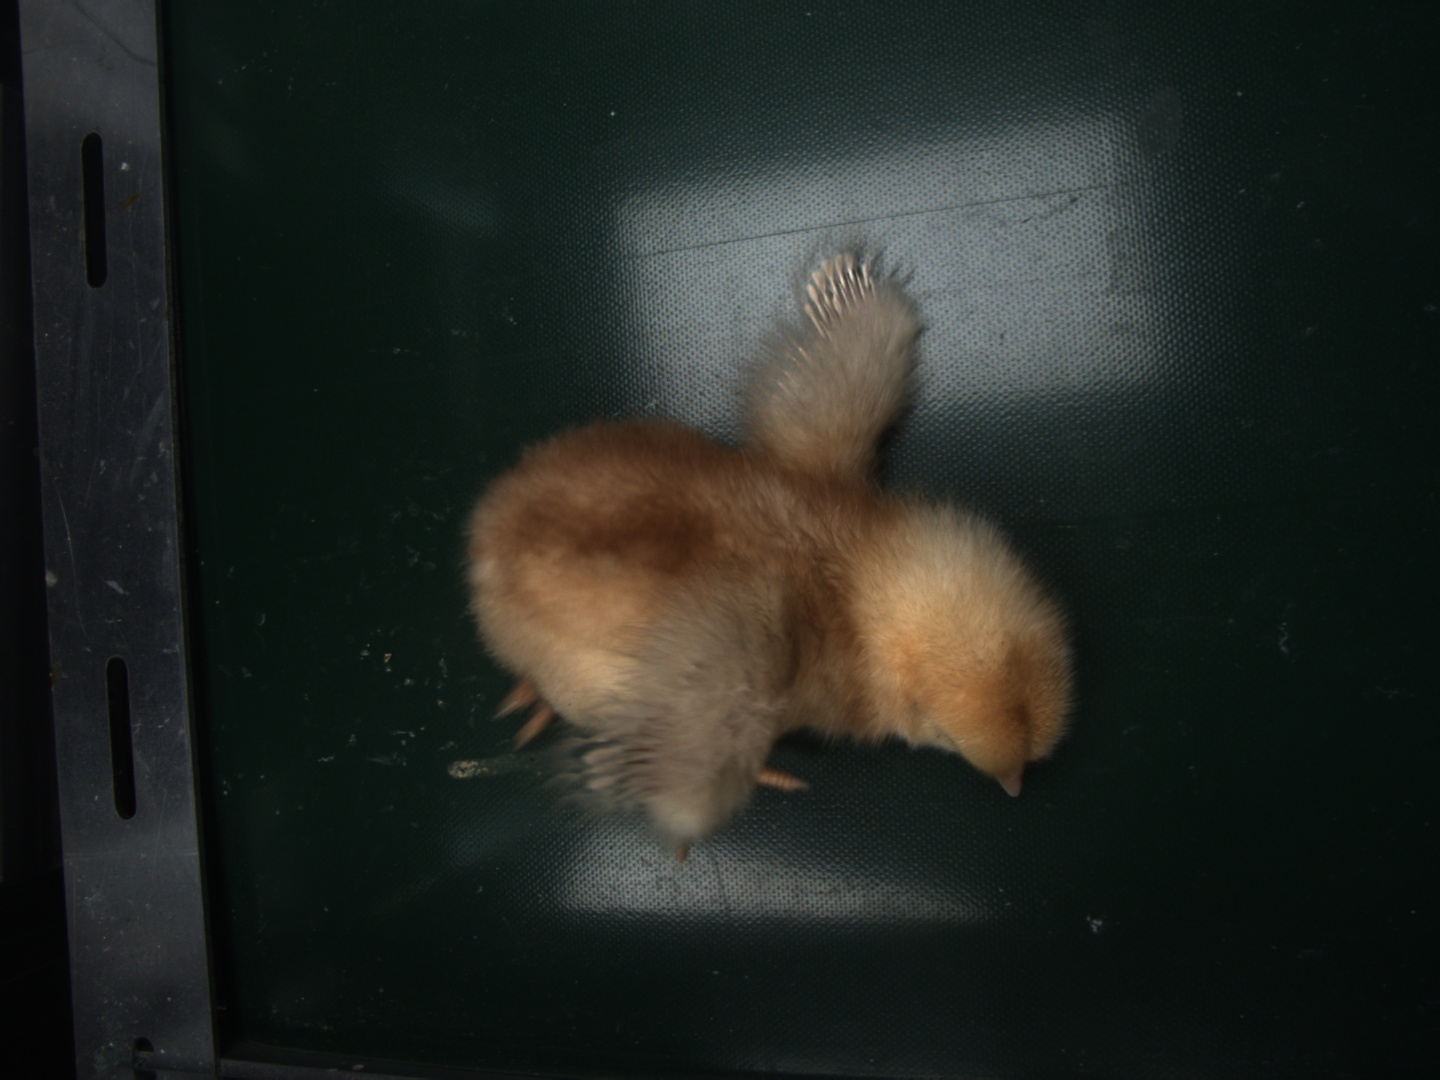female: (803, 254, 878, 332)
